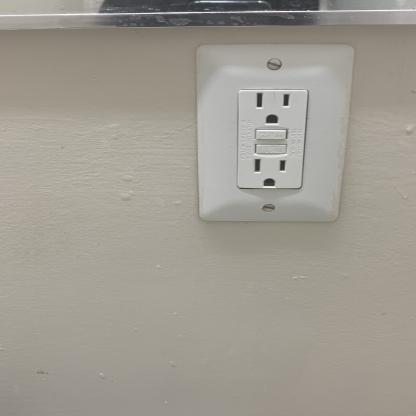OUTLET: (196, 42, 348, 224)
